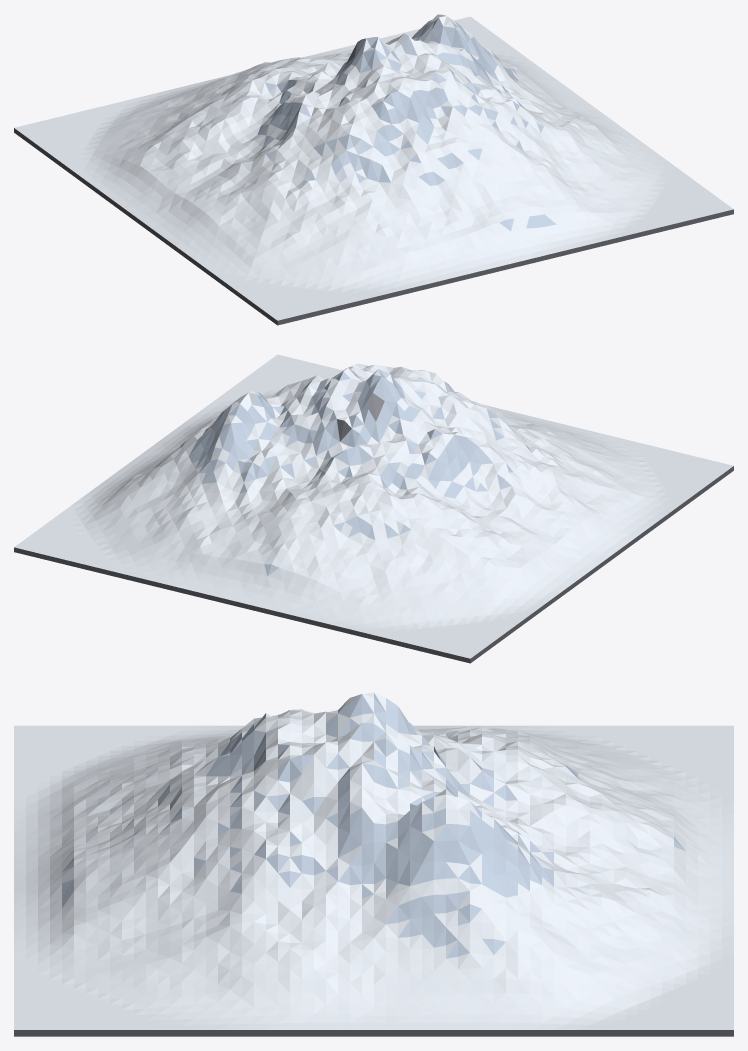
Rendered from mountain_hill.glb.
3 renders of one model, top to bottom at view 1: azimuth 30°, elevation 25°; view 2: azimuth 150°, elevation 25°; view 3: azimuth 270°, elevation 25°, orthographic. The views are drawn at different scales.
Visible parts, largest first — view 1: mountain_hill; view 2: mountain_hill; view 3: mountain_hill.
Part boxes in pixels (left/top/right/bottom): mountain_hill: left=14, top=14, right=733, bottom=325; mountain_hill: left=14, top=354, right=733, bottom=663; mountain_hill: left=14, top=692, right=733, bottom=1036.
Size of the model in its own units: 300 by 87.56 by 300.
1 material, 1 textured.
